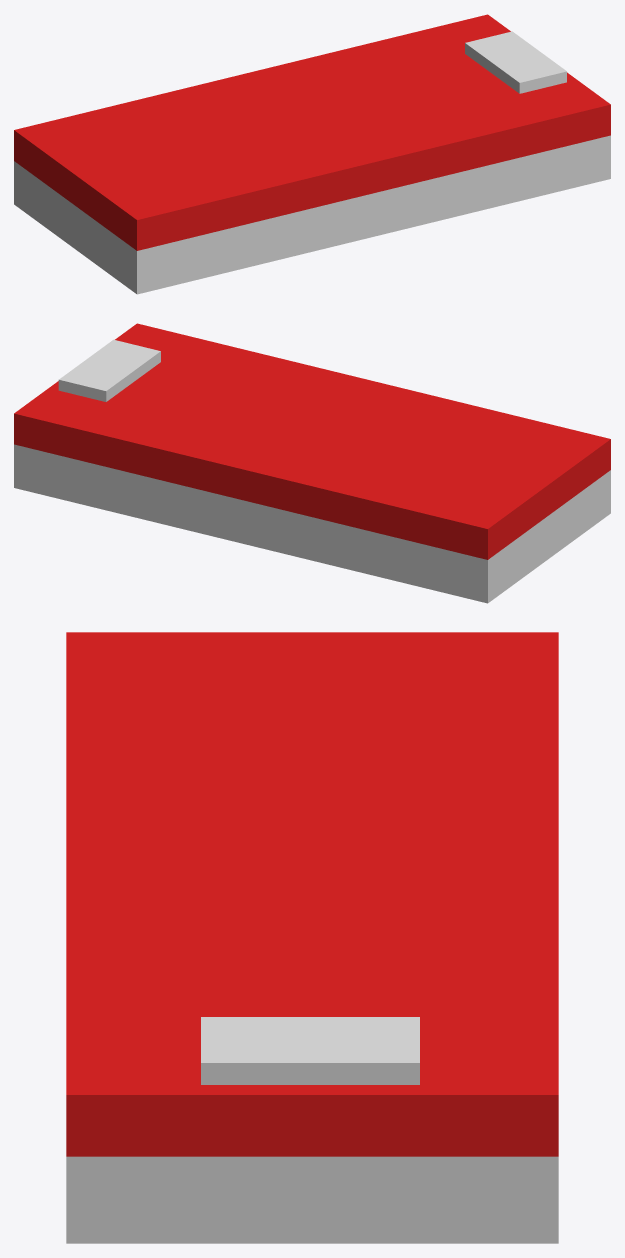
The model's file is Kasur.fbx.
The picture shows the model from 3 angles, top to bottom: view 1: azimuth 30°, elevation 25°; view 2: azimuth 150°, elevation 25°; view 3: azimuth 270°, elevation 25°; orthographic projection. The views are drawn at different scales.
Visible parts, largest first — view 1: Cube, Cube.001; view 2: Cube, Cube.001; view 3: Cube, Cube.001.
Part boxes in pixels (x1=…): Cube: x1=14, y1=14, x2=610, y2=294; Cube.001: x1=465, y1=31, x2=566, y2=93; Cube: x1=14, y1=323, x2=610, y2=603; Cube.001: x1=58, y1=339, x2=160, y2=401; Cube: x1=66, y1=632, x2=558, y2=1243; Cube.001: x1=201, y1=1017, x2=419, y2=1084.
Bounding box in the file's own units: 200 × 34.41 × 90.
